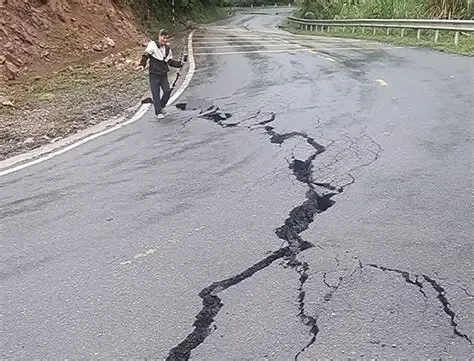ROAD_CRACK: (180, 160, 390, 340), (175, 100, 285, 170)
